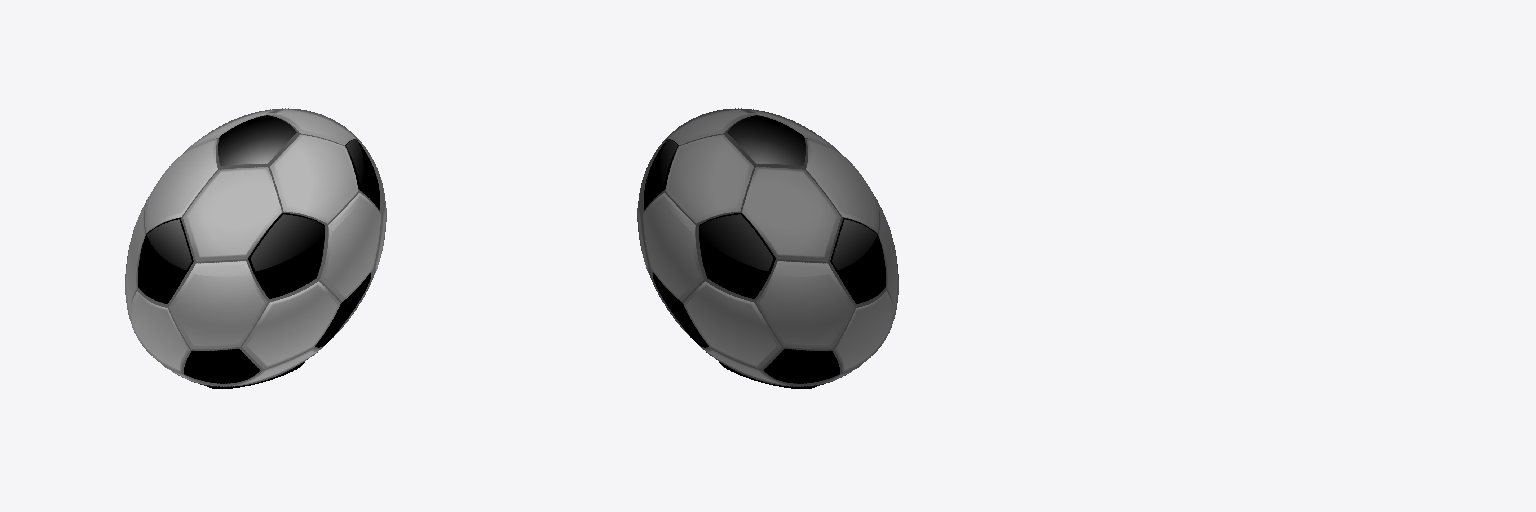
The picture shows the model from 3 angles: view 1: azimuth 30°, elevation 25°; view 2: azimuth 150°, elevation 25°; view 3: azimuth 270°, elevation 25°; orthographic projection.
Visible parts, largest first — view 1: media_surface; view 2: media_surface; view 3: none.
Part boxes in pixels (bbox=[...]): media_surface: bbox=[125, 108, 386, 388]; media_surface: bbox=[637, 108, 898, 388].
Bounding box in the file's own units: 2 × 2 × 0.
Materials: 1 (1 with a texture image).